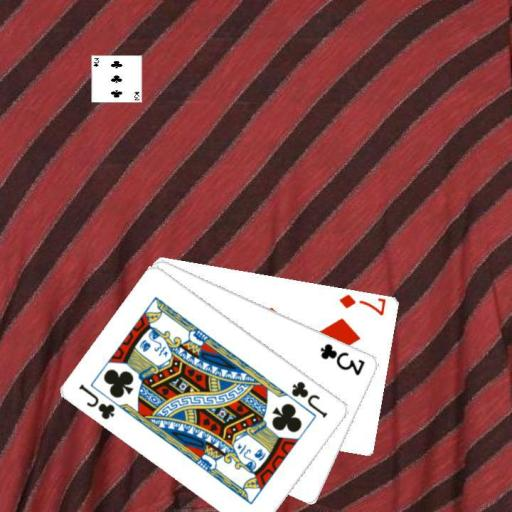3C: (317, 340, 367, 377)
7D: (336, 291, 387, 317)
JC: (288, 378, 329, 420), (76, 381, 117, 422)
